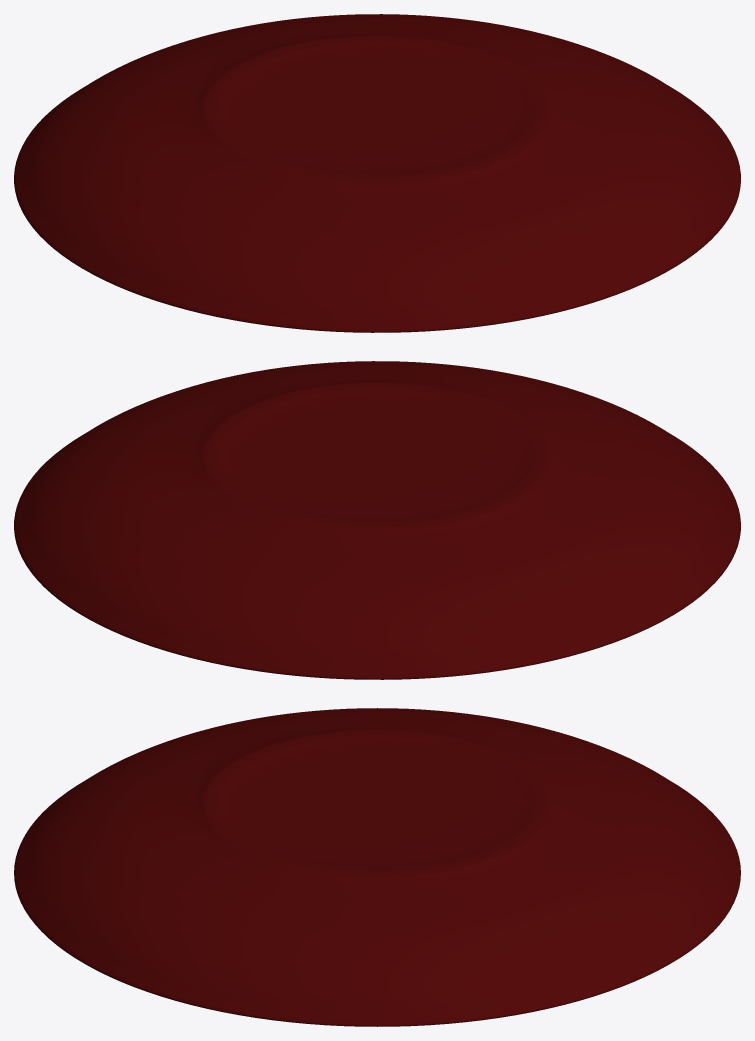
File: plate_new.obj
3 views of the same model, one above another, from view 1: azimuth 30°, elevation 25°; view 2: azimuth 150°, elevation 25°; view 3: azimuth 270°, elevation 25° (orthographic).
Parts seen in each view (by area): view 1: Cylinder_0; view 2: Cylinder_0; view 3: Cylinder_0.
Boxes of the visible parts, x1=… form: Cylinder_0: x1=14, y1=14, x2=740, y2=332; Cylinder_0: x1=14, y1=361, x2=740, y2=679; Cylinder_0: x1=14, y1=708, x2=740, y2=1026.
Size of the model in its own units: 9.56 by 1.04 by 9.56.
